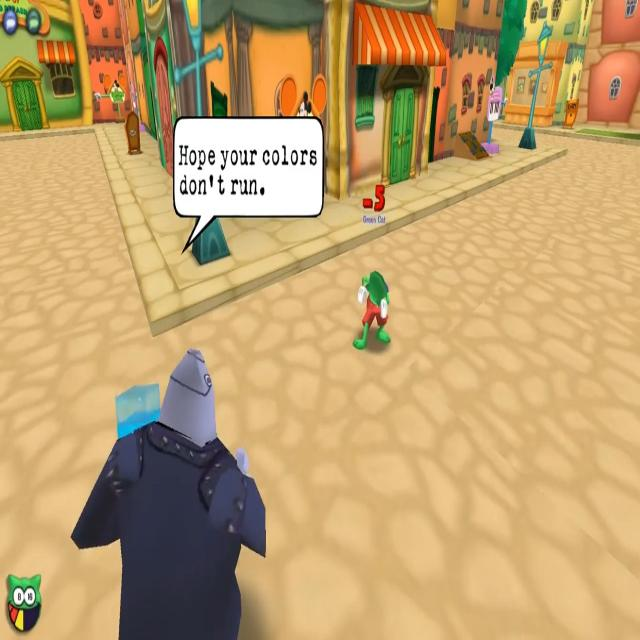bottomfeeder: (70, 117, 325, 640)
